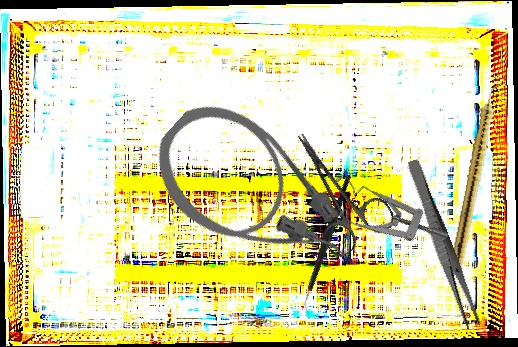Cannula: (134, 82, 371, 312)
Chopper: (261, 173, 395, 318)
Dressing Forceps: (402, 158, 483, 330)
Handpiece: (448, 80, 503, 277)
Iris Scissors: (271, 114, 399, 261)
Speculum: (312, 151, 451, 287)
